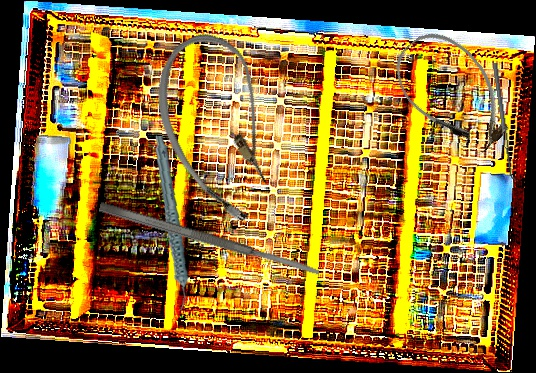Cannula: (132, 20, 309, 235), (381, 18, 525, 168)
Handpiece: (138, 135, 202, 311)
Spatula Surgical: (98, 199, 321, 280), (492, 61, 519, 183)
